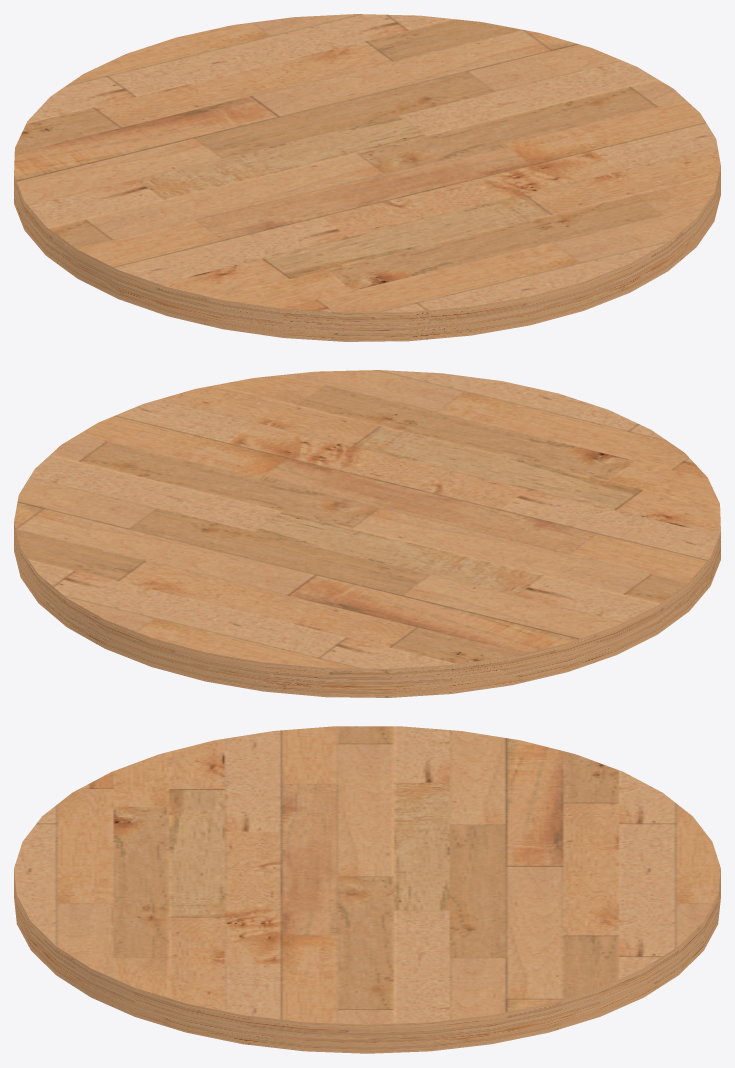
File: Disc.gltf
3 renders of one model, top to bottom at view 1: azimuth 30°, elevation 25°; view 2: azimuth 150°, elevation 25°; view 3: azimuth 270°, elevation 25°, orthographic.
Parts seen in each view (by area): view 1: Cylinder001; view 2: Cylinder001; view 3: Cylinder001.
Part boxes in pixels (box(x1,y1,x2,y2)): Cylinder001: box(14, 14, 720, 341); Cylinder001: box(14, 370, 720, 697); Cylinder001: box(14, 726, 720, 1053).
Bounding box in the file's own units: 0.0532 × 0.00242 × 0.0533.
Materials: 1 (1 with a texture image).
